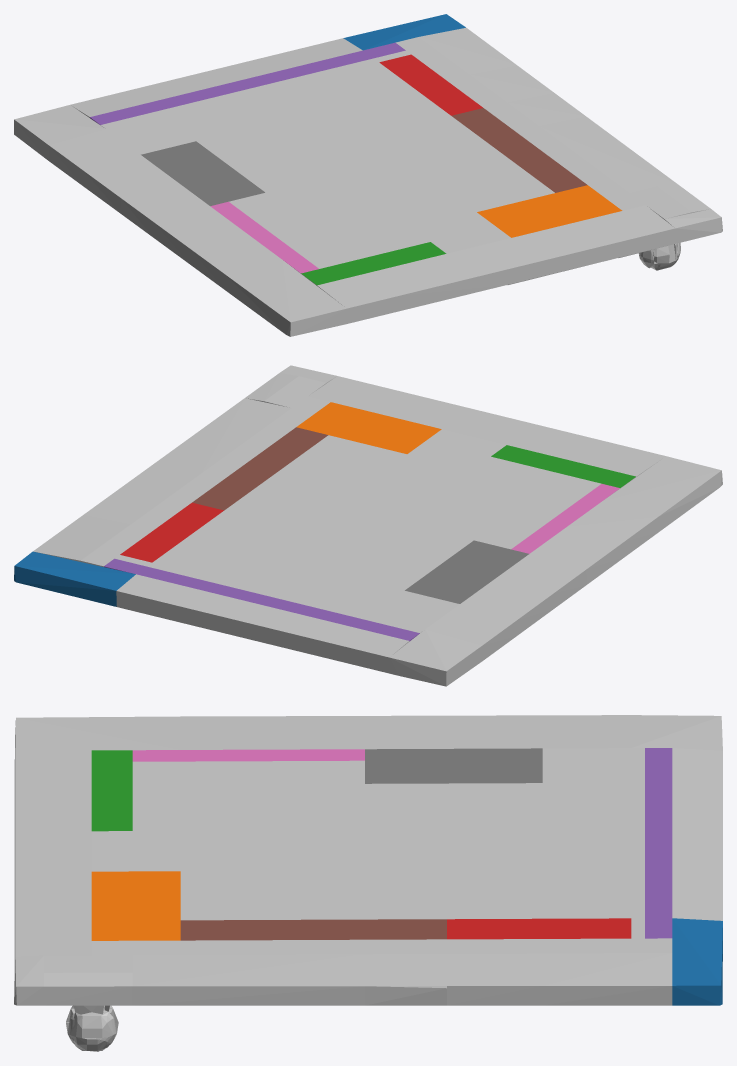
File: Door_01_cvx.obj
The picture shows the model from 3 angles, top to bottom: view 1: azimuth 30°, elevation 25°; view 2: azimuth 150°, elevation 25°; view 3: azimuth 270°, elevation 25°; orthographic projection. The views are drawn at different scales.
Parts seen in each view (by area): view 1: scenes/apartment_0000_coacd/output/Unknown/Cabinet/Door_01/cvx/D; view 2: scenes/apartment_0000_coacd/output/Unknown/Cabinet/Door_01/cvx/D; view 3: scenes/apartment_0000_coacd/output/Unknown/Cabinet/Door_01/cvx/D.
Boxes of the visible parts, <box> form: scenes/apartment_0000_coacd/output/Unknown/Cabinet/Door_01/cvx/D: <box>14,14,722,336</box>; scenes/apartment_0000_coacd/output/Unknown/Cabinet/Door_01/cvx/D: <box>14,365,722,686</box>; scenes/apartment_0000_coacd/output/Unknown/Cabinet/Door_01/cvx/D: <box>14,715,722,1051</box>.
Size of the model in its own units: 0.5922 by 0.088 by 0.6552.
